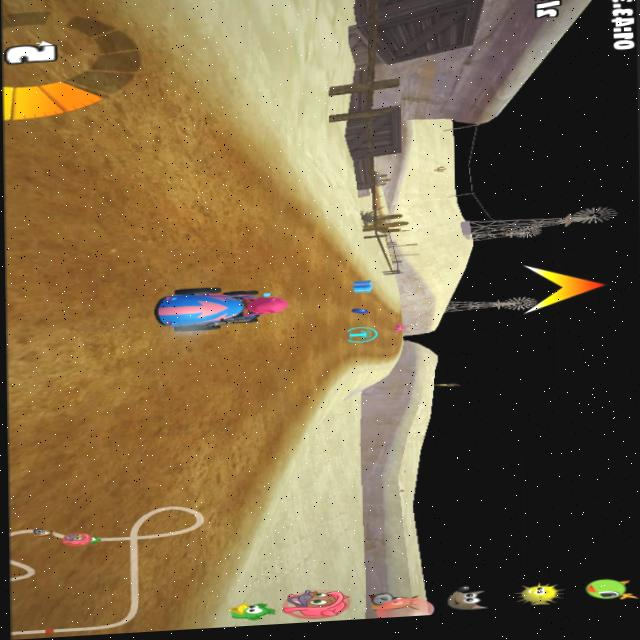bonus: (347, 278, 387, 296)
nitro: (349, 304, 375, 317)
track: (5, 325, 281, 516), (3, 121, 269, 296), (277, 160, 303, 429), (11, 287, 150, 337), (298, 228, 343, 377), (379, 304, 405, 357), (337, 345, 381, 361), (305, 377, 323, 399), (400, 318, 408, 342)
